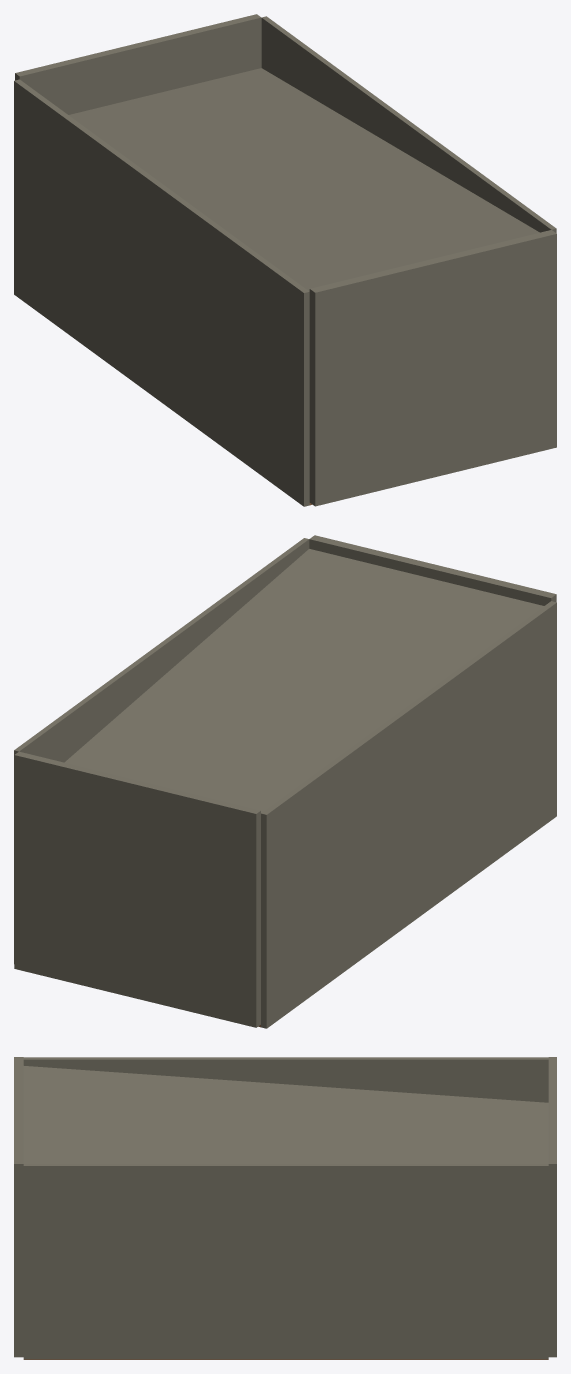
The model's file is DaveWangStage.fbx.
3 views of the same model, one above another, from view 1: azimuth 30°, elevation 25°; view 2: azimuth 150°, elevation 25°; view 3: azimuth 270°, elevation 25° (orthographic). The views are drawn at different scales.
Parts seen in each view (by area): view 1: Plane.015, Plane.014, Plane.018, Plane.017, Plane.016; view 2: Plane.015, Plane.018, Plane.017, Plane.016, Plane.014; view 3: Plane.016, Plane.018, Plane.015, Plane.014, Plane.017, Plane.001.
Boxes of the visible parts, x1,y1,x2,y2 form: Plane.015: (14,79,309,506); Plane.014: (309,230,556,506); Plane.018: (69,68,539,291); Plane.017: (15,14,261,114); Plane.016: (261,16,556,233); Plane.015: (261,601,556,1028); Plane.018: (64,549,543,813); Plane.017: (14,751,260,1027); Plane.016: (14,538,309,963); Plane.014: (309,535,556,605); Plane.016: (23,1164,548,1359); Plane.018: (23,1066,548,1163); Plane.015: (23,1057,548,1102); Plane.014: (14,1057,23,1357); Plane.017: (548,1057,556,1357); Plane.001: (23,1359,548,1359).
Size of the model in its own units: 3382 by 1643 by 1347.
